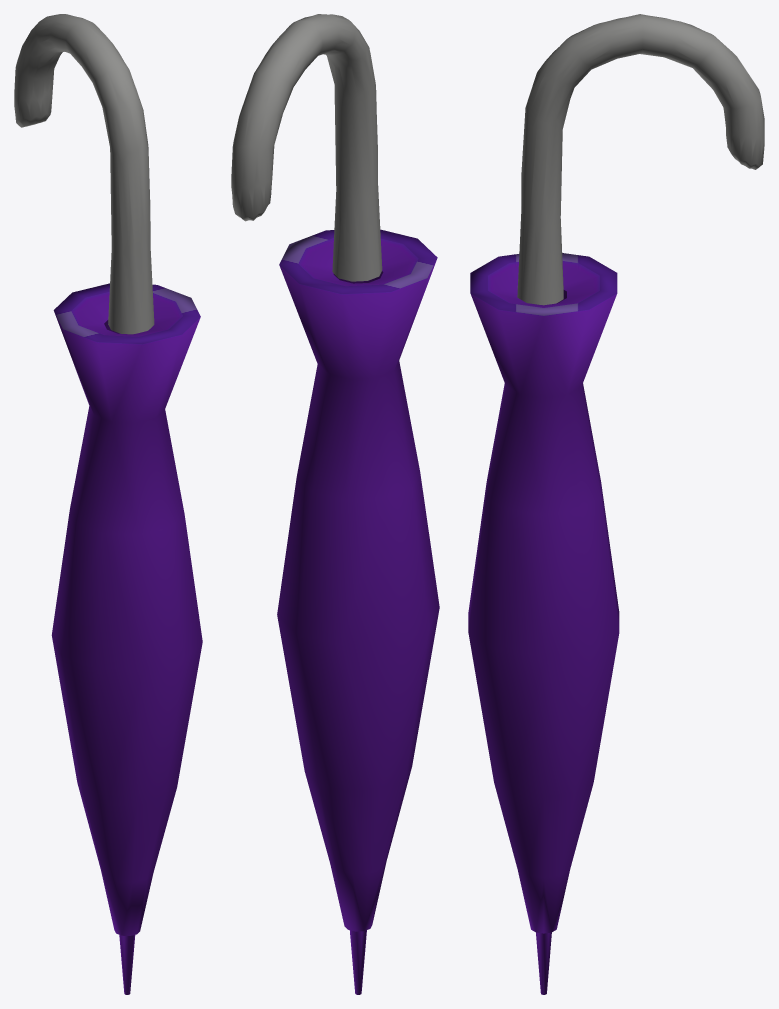
File: sombrillacerrada.fbx
3 views of the same model, side by side, from view 1: azimuth 30°, elevation 25°; view 2: azimuth 150°, elevation 25°; view 3: azimuth 270°, elevation 25° (orthographic). The views are drawn at different scales.
Parts seen in each view (by area): view 1: Penguin_Umbrella:Mesh; view 2: Penguin_Umbrella:Mesh; view 3: Penguin_Umbrella:Mesh.
Part boxes in pixels (x1,y1,x2,y2): Penguin_Umbrella:Mesh: (14, 14, 202, 994); Penguin_Umbrella:Mesh: (231, 14, 439, 994); Penguin_Umbrella:Mesh: (468, 14, 764, 994).
Size of the model in its own units: 0.1573 by 1.07 by 0.2936.
